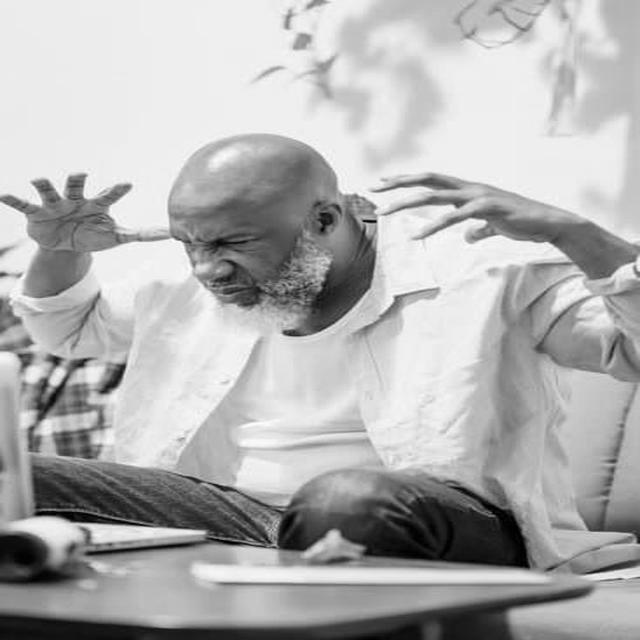Angry: (167, 177, 329, 334)
